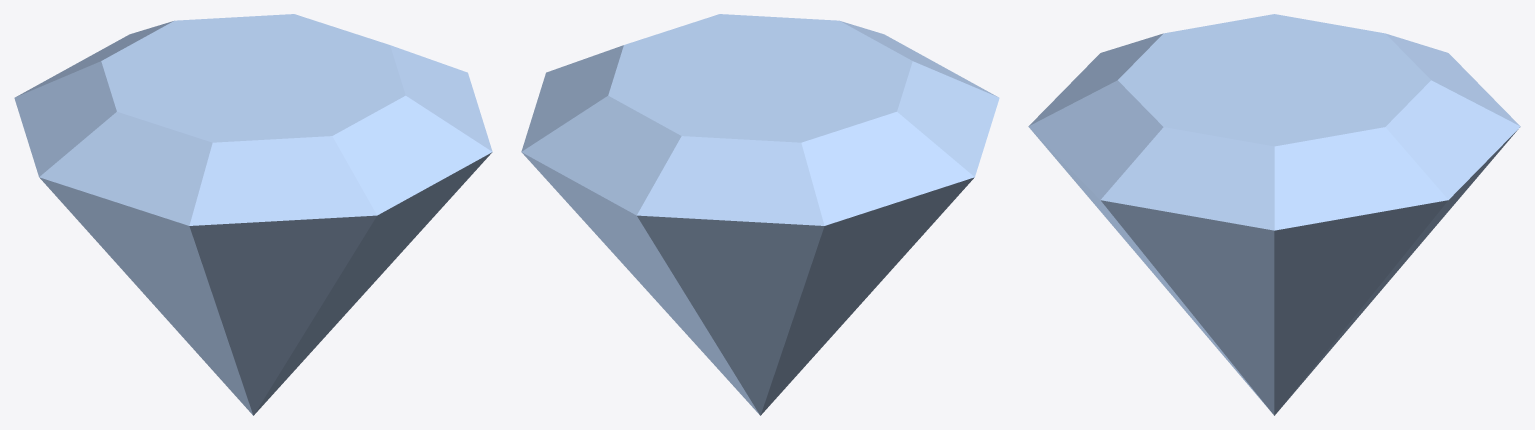
File: Diamond.glb
The picture shows the model from 3 angles, left to right: view 1: azimuth 30°, elevation 25°; view 2: azimuth 150°, elevation 25°; view 3: azimuth 270°, elevation 25°; orthographic projection.
Parts seen in each view (by area): view 1: Cylinder; view 2: Cylinder; view 3: Cylinder.
Part boxes in pixels (left/top/right/bottom): Cylinder: left=14, top=14, right=492, bottom=415; Cylinder: left=521, top=14, right=999, bottom=415; Cylinder: left=1028, top=14, right=1520, bottom=415.
Size of the model in its own units: 2 by 1.5 by 2.
